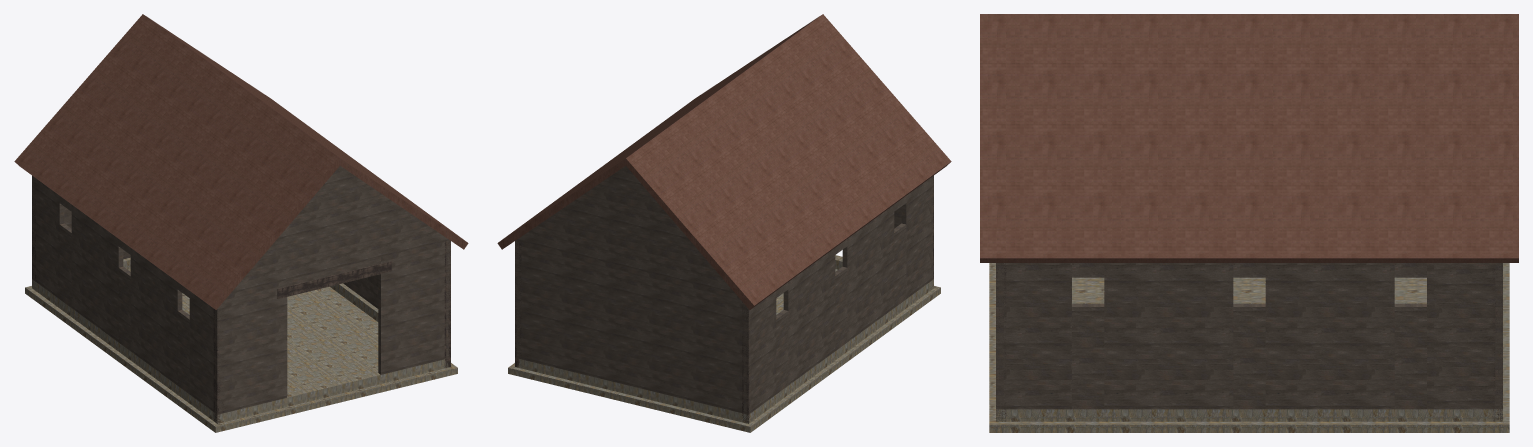
Rendered from prop_barn.glb.
3 renders of one model, left to right at view 1: azimuth 30°, elevation 25°; view 2: azimuth 150°, elevation 25°; view 3: azimuth 270°, elevation 25°, orthographic. The views are drawn at different scales.
Visible parts, largest first — view 1: prop_barn; view 2: prop_barn; view 3: prop_barn.
Boxes of the visible parts, left/top/right/bottom form: prop_barn: left=14, top=14, right=468, bottom=432; prop_barn: left=497, top=14, right=951, bottom=432; prop_barn: left=980, top=14, right=1518, bottom=432.
Size of the model in its own units: 8.8 by 8.1 by 11.7.
4 materials, 4 textured.
